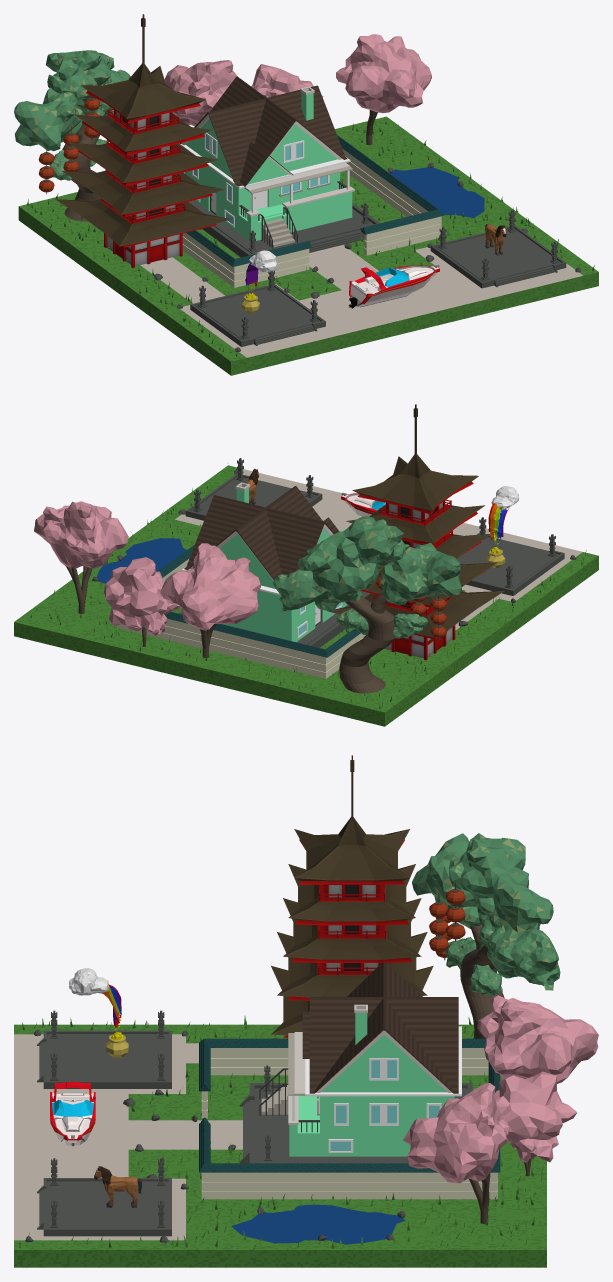
3 renders of one model, top to bottom at view 1: azimuth 30°, elevation 25°; view 2: azimuth 150°, elevation 25°; view 3: azimuth 270°, elevation 25°, orthographic. The views are drawn at different scales.
Visible parts, largest first — view 1: Cube.005, Cube.352, VEHICLES_BOAT, OBJRANDOM_RAINBOW, ANIMAL_CABALLO; view 2: Cube.005, Cube.352, OBJRANDOM_RAINBOW, VEHICLES_BOAT; view 3: Cube.005, Cube.352, VEHICLES_BOAT, OBJRANDOM_RAINBOW, ANIMAL_CABALLO.
Part boxes in pixels (x1,y1,x2,y2): Cube.005: [14, 14, 598, 375]; Cube.352: [179, 76, 354, 248]; VEHICLES_BOAT: [348, 264, 439, 308]; OBJRANDOM_RAINBOW: [241, 250, 277, 313]; ANIMAL_CABALLO: [485, 223, 506, 255]; Cube.005: [14, 404, 598, 726]; Cube.352: [181, 482, 347, 642]; OBJRANDOM_RAINBOW: [486, 486, 519, 568]; VEHICLES_BOAT: [341, 492, 385, 516]; Cube.005: [14, 755, 598, 1267]; Cube.352: [259, 961, 461, 1156]; VEHICLES_BOAT: [50, 1081, 95, 1146]; OBJRANDOM_RAINBOW: [69, 968, 128, 1057]; ANIMAL_CABALLO: [94, 1166, 141, 1207].
Size of the model in its own units: 4528 by 2842 by 4389.
Materials: 45 (5 with a texture image).
